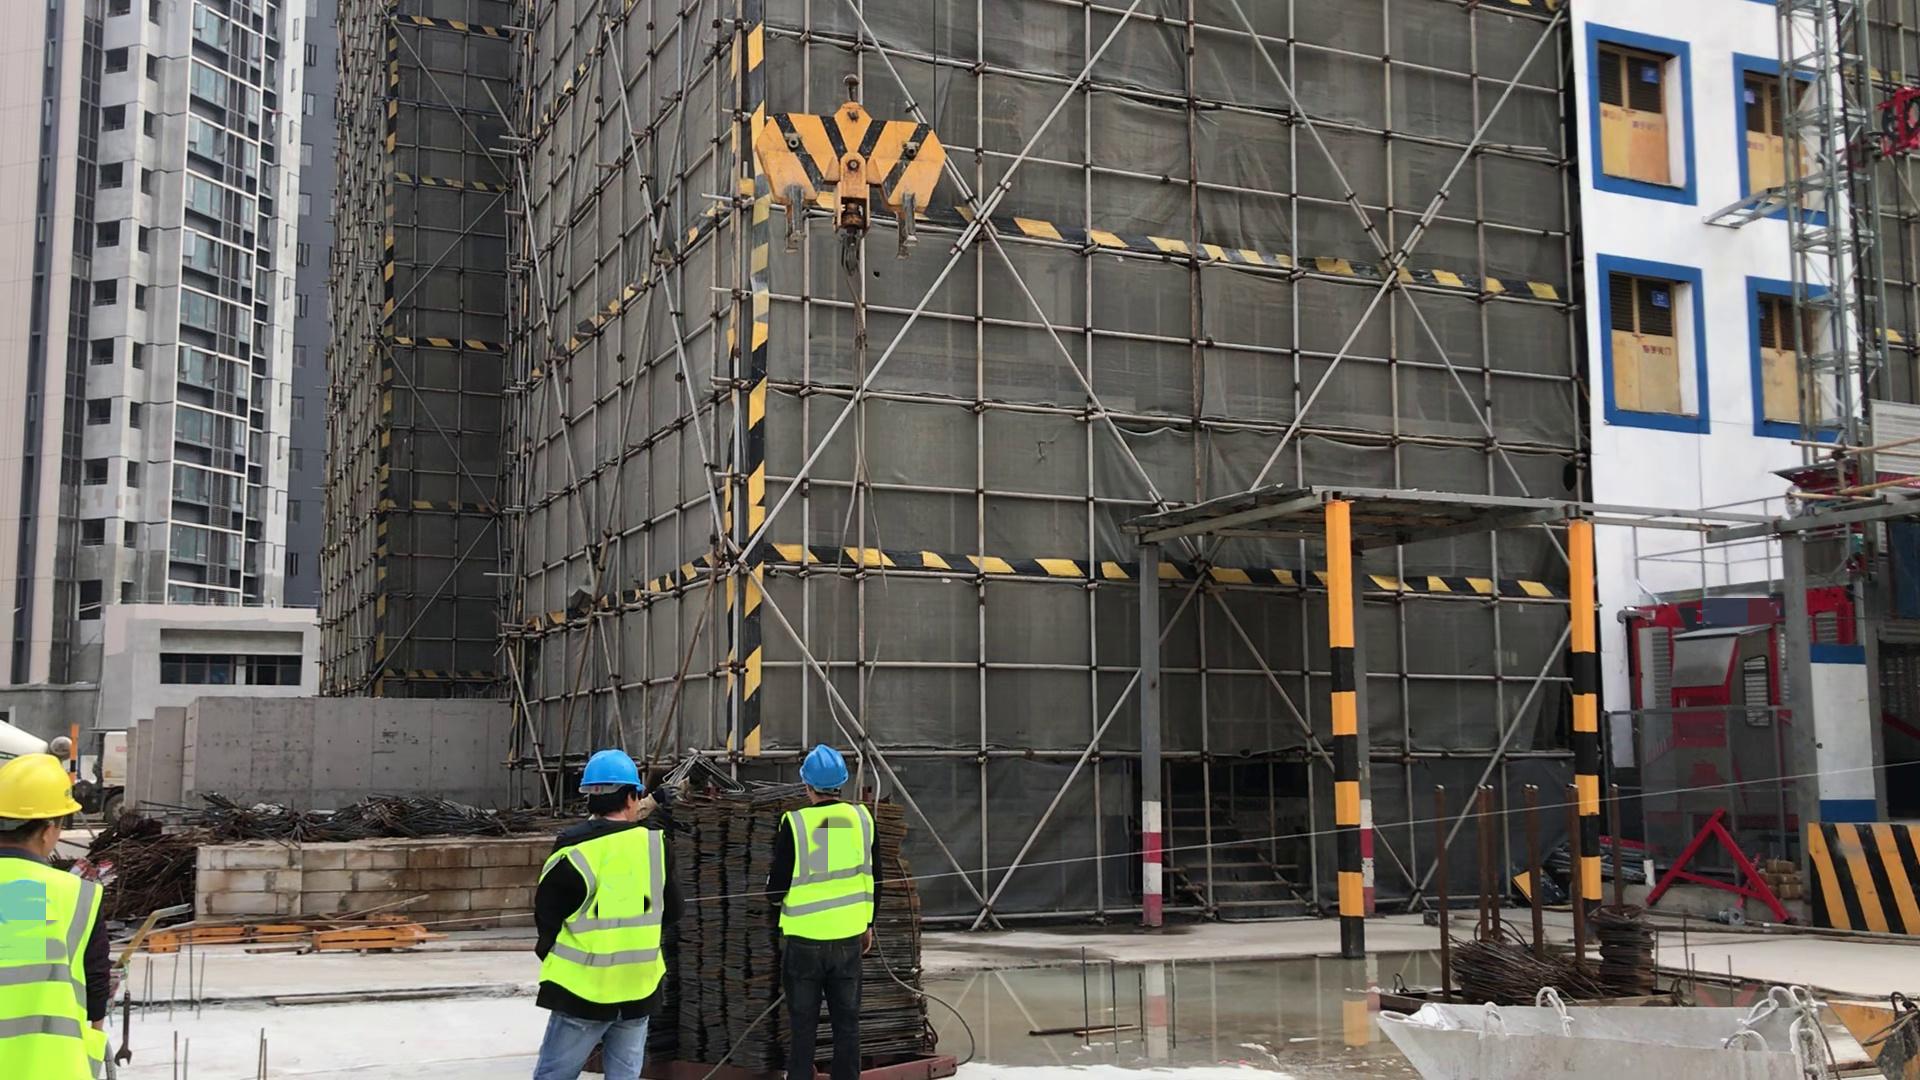helmet: (1, 753, 86, 821), (574, 748, 649, 792), (797, 745, 853, 789)
hook: (753, 81, 956, 242)
hopper: (1372, 972, 1834, 1080)
person: (503, 738, 690, 1080), (1, 748, 162, 1068), (755, 752, 912, 1079)
vest: (1, 849, 128, 1079), (547, 839, 666, 1008), (774, 801, 877, 943)
